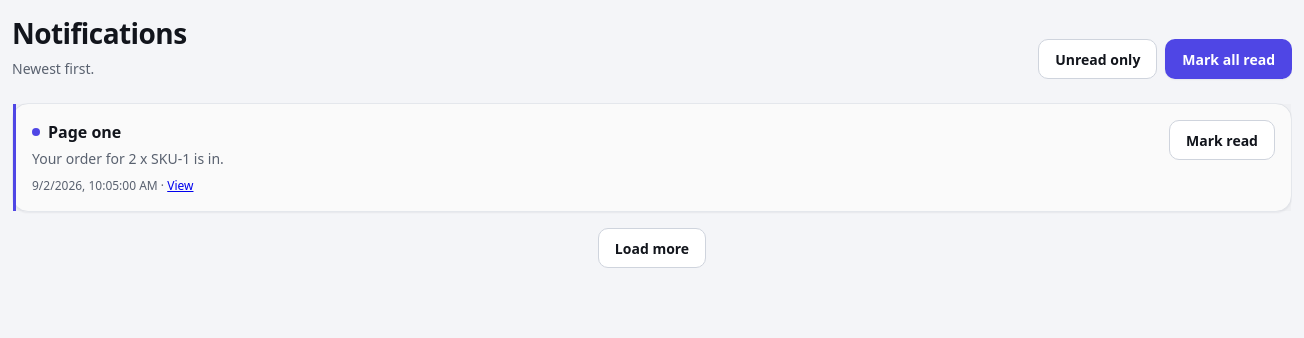
Test: NotificationList › sends back the cursor the server issued and appends the page it returns
Click the button "Load more": {"x": 652, "y": 248} x1=598 y1=228 x2=706 y2=268
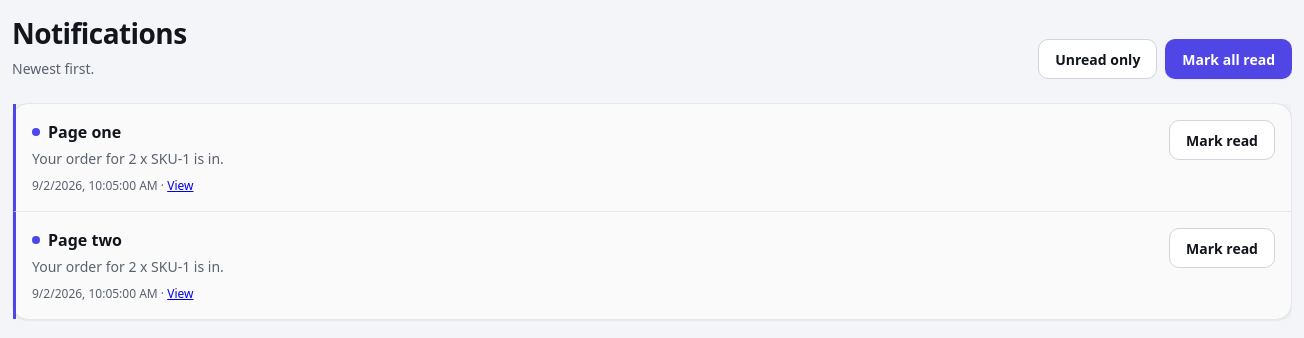
Expected: the text "Page one" is shown, x1=31 y1=121 x2=121 y2=154
Expected: the text "Page two" is shown, x1=31 y1=229 x2=122 y2=262
Expected: the button "Load more" is gone
